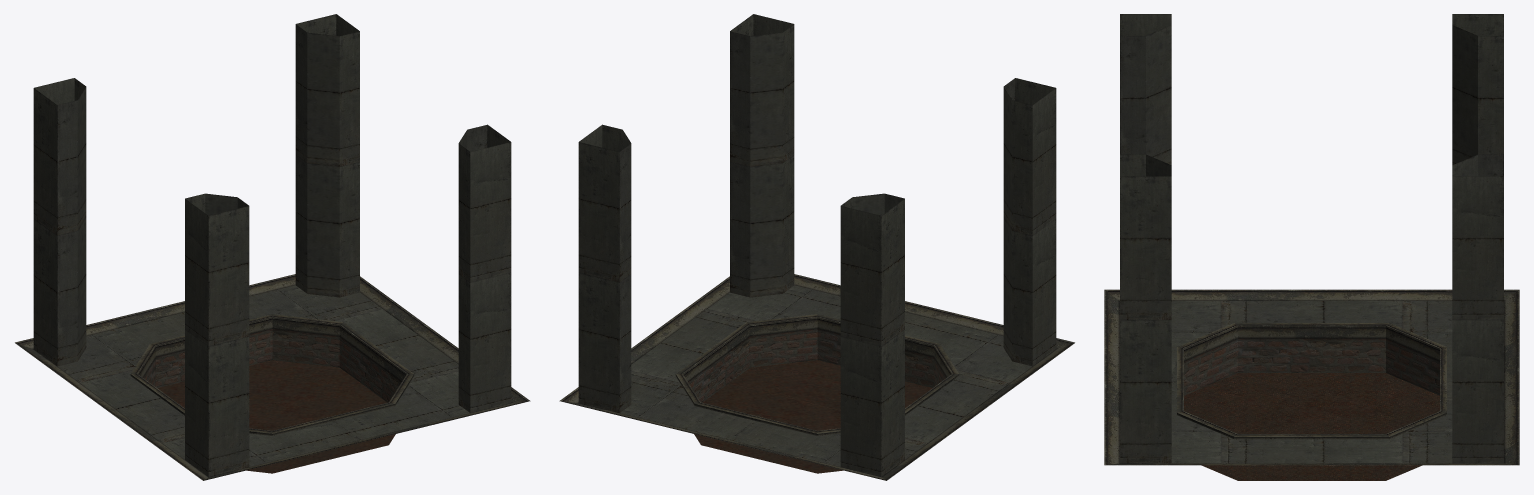
The model's file is structure_piece_rg_1.glb.
3 renders of one model, left to right at view 1: azimuth 30°, elevation 25°; view 2: azimuth 150°, elevation 25°; view 3: azimuth 270°, elevation 25°, orthographic. The views are drawn at different scales.
Parts seen in each view (by area): view 1: structure_piece_rg_1; view 2: structure_piece_rg_1; view 3: structure_piece_rg_1.
Part boxes in pixels (x1,y1,x2,y2): structure_piece_rg_1: (15, 14, 530, 480); structure_piece_rg_1: (559, 14, 1074, 480); structure_piece_rg_1: (1104, 14, 1519, 480).
Bounding box in the file's own units: 8 × 7.05 × 8.
3 materials, 3 textured.
